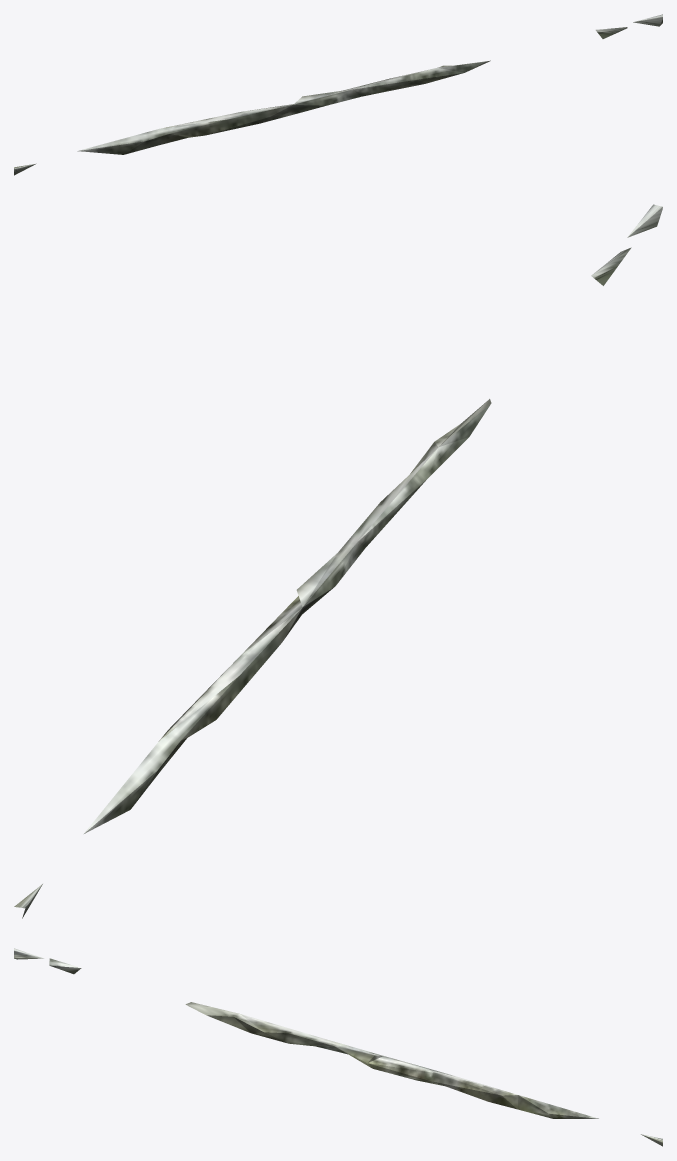
3 renders of one model, top to bottom at view 1: azimuth 90°, elevation 25°; view 2: azimuth 150°, elevation 25°; view 3: azimuth 270°, elevation 25°, orthographic. The views are drawn at different scales.
Size of the model in its own units: 0.476 by 1.79 by 5.9.
Materials: 1 (1 with a texture image).
